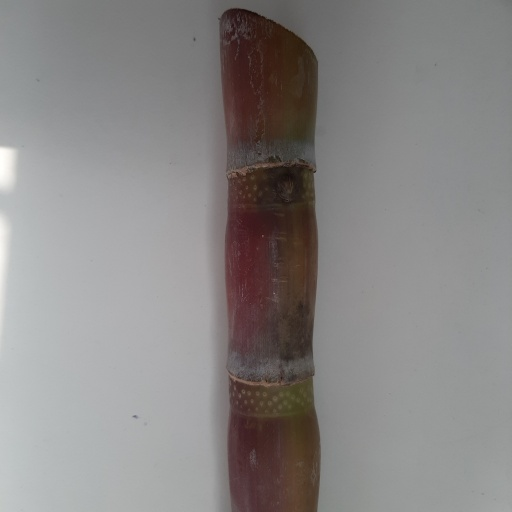Bud: (273, 172, 297, 204)
